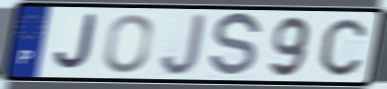9: (267, 15, 312, 79)
C: (318, 16, 368, 78)
J: (158, 12, 208, 77), (51, 13, 98, 74)
O: (102, 12, 155, 75)
S: (206, 11, 264, 81)
